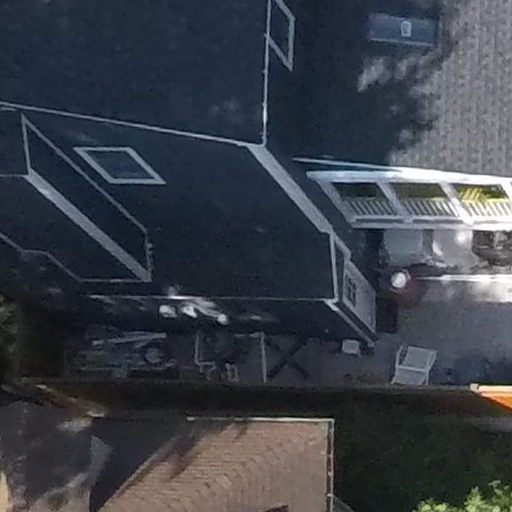chair: (390, 335, 443, 388)
